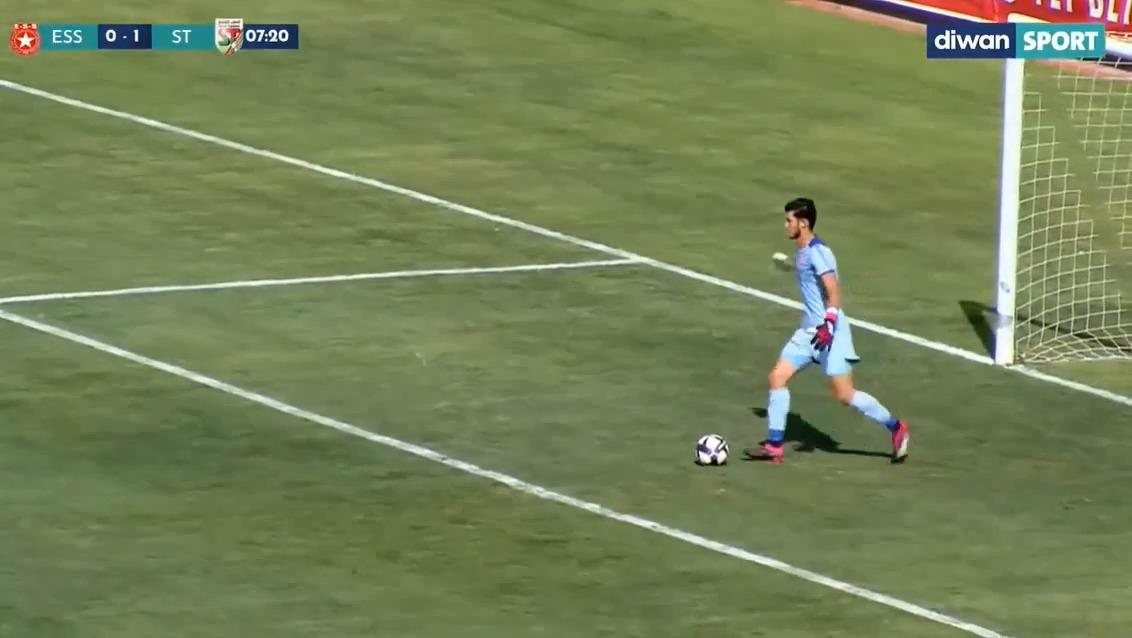ball: (687, 419, 740, 486)
goalkeeper: (735, 181, 930, 477)
